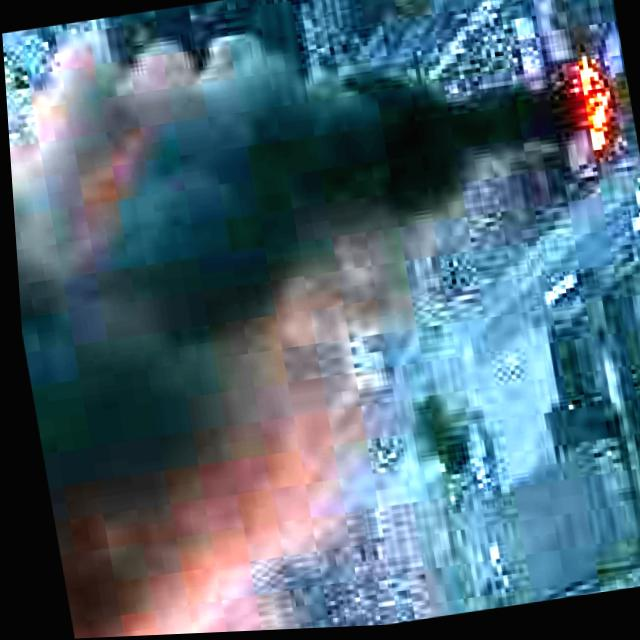smoke: (0, 0, 633, 508)
